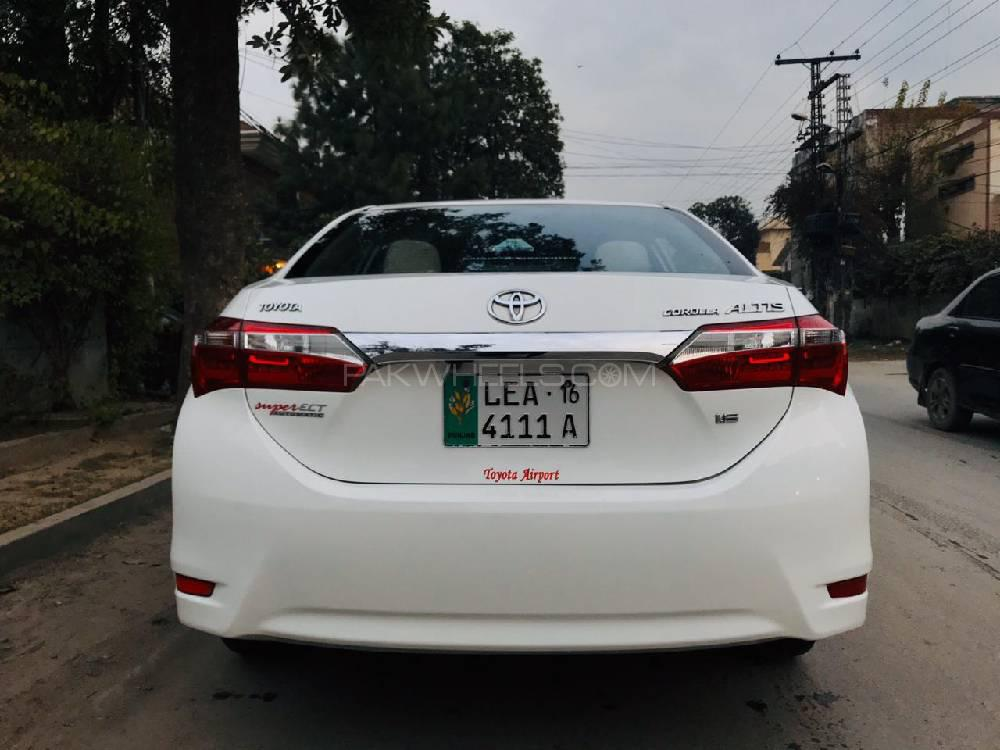plate: (441, 368, 594, 450)
